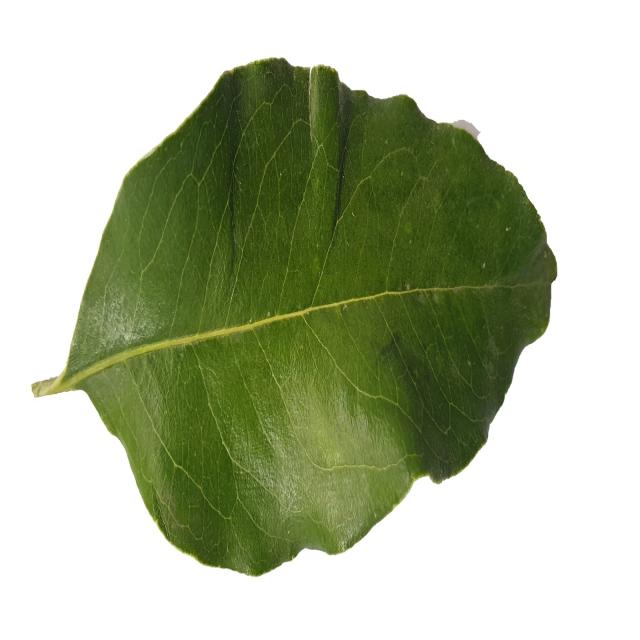Medicinal-Sandalwood: (33, 57, 558, 580)
